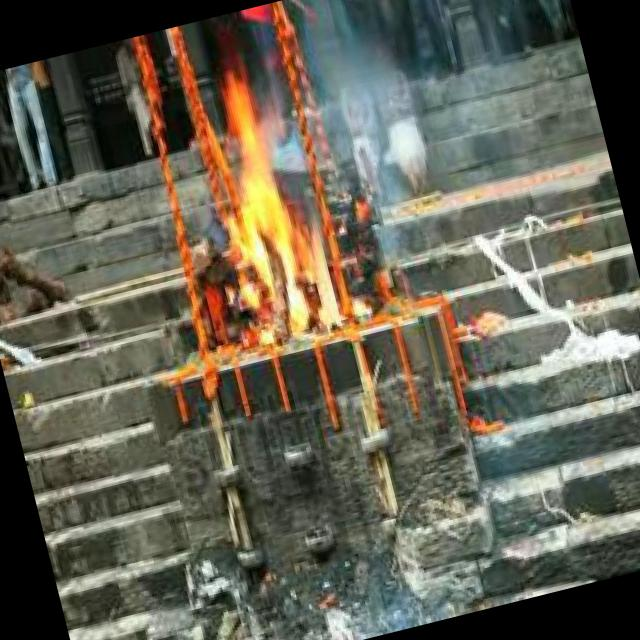Fire: (184, 60, 354, 342)
